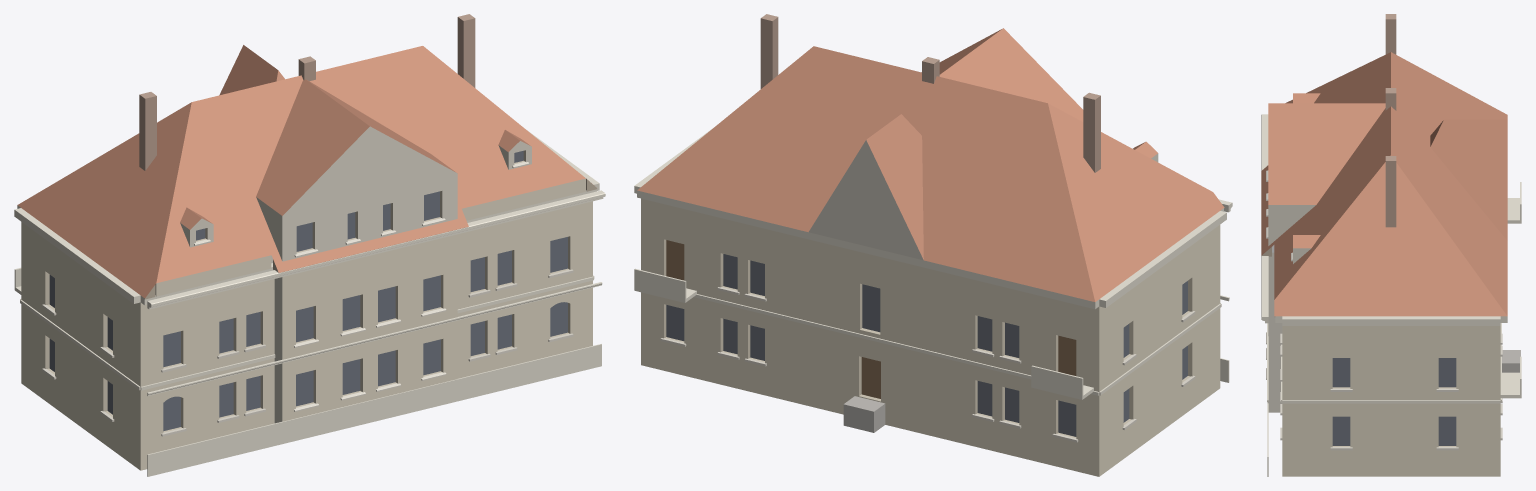
3 renders of one model, left to right at view 1: azimuth 30°, elevation 25°; view 2: azimuth 150°, elevation 25°; view 3: azimuth 270°, elevation 25°, orthographic. The views are drawn at different scales.
Visible parts, largest first — view 1: CP_426_Masonry, CP_426_Roof, CP_426_Dormer_P, CP_426_Cornice_plinth_0, CP_426_Cornice_main_0, CP_426_Cornice_string_0, CP_426_Cornice_side_NE_main, CP_426_Roof_EaveClosure_0, CP_426_Roof_EaveClosure_2, CP_426_WingRoof_RearGable, CP_426_Chimney_0, CP_426_Chimney_2 (+5 smaller); view 2: CP_426_Masonry, CP_426_Roof, CP_426_WingRoof_RearGable, CP_426_Dormer_P, CP_426_Cornice_rear_main, CP_426_Cornice_side_NE_main, CP_426_Cornice_rear_string, CP_426_Chimney_0, CP_426_Rear_Steps, CP_426_Chimney_2, CP_426_Balcony_L_Rail, CP_426_Balcony_R_Rail (+1 smaller); view 3: CP_426_Roof, CP_426_Masonry, CP_426_Dormer_P, CP_426_WingRoof_RearGable, CP_426_Cornice_side_SW_main, CP_426_Cornice_main_0, CP_426_Cornice_side_SW_string, CP_426_Chimney_2, CP_426_Balcony_R_Slab, CP_426_Chimney_0, CP_426_Dormer_DR, CP_426_Rear_Steps (+1 smaller).
Boxes of the visible parts, x1,y1,x2,y2 form: CP_426_Masonry: (21, 201, 592, 470); CP_426_Roof: (17, 46, 596, 298); CP_426_Dormer_P: (256, 79, 457, 261); CP_426_Cornice_plinth_0: (147, 344, 601, 476); CP_426_Cornice_main_0: (147, 190, 605, 309); CP_426_Cornice_string_0: (147, 282, 602, 395); CP_426_Cornice_side_NE_main: (14, 208, 140, 303); CP_426_Roof_EaveClosure_0: (462, 178, 585, 220); CP_426_Roof_EaveClosure_2: (155, 255, 271, 296); CP_426_WingRoof_RearGable: (219, 45, 284, 95); CP_426_Chimney_0: (139, 92, 156, 170); CP_426_Chimney_2: (457, 14, 475, 87); CP_426_Masonry: (641, 198, 1220, 476); CP_426_Roof: (637, 46, 1224, 301); CP_426_WingRoof_RearGable: (809, 114, 923, 260); CP_426_Dormer_P: (921, 28, 1083, 121); CP_426_Cornice_rear_main: (637, 190, 1099, 309); CP_426_Cornice_side_NE_main: (1099, 211, 1226, 307); CP_426_Cornice_rear_string: (694, 294, 1099, 395); CP_426_Chimney_0: (1083, 92, 1100, 172); CP_426_Rear_Steps: (843, 396, 885, 432); CP_426_Chimney_2: (760, 14, 778, 88); CP_426_Balcony_L_Rail: (1031, 365, 1083, 396); CP_426_Balcony_R_Rail: (634, 268, 686, 299); CP_426_Roof: (1261, 52, 1507, 316); CP_426_Masonry: (1268, 245, 1500, 476); CP_426_Dormer_P: (1268, 103, 1385, 245); CP_426_WingRoof_RearGable: (1430, 119, 1507, 240); CP_426_Cornice_side_SW_main: (1282, 316, 1500, 325); CP_426_Cornice_main_0: (1261, 114, 1268, 323); CP_426_Cornice_side_SW_string: (1282, 400, 1500, 403); CP_426_Chimney_2: (1385, 156, 1396, 227); CP_426_Balcony_R_Slab: (1500, 372, 1521, 398); CP_426_Chimney_0: (1385, 14, 1396, 54); CP_426_Dormer_DR: (1293, 235, 1320, 263); CP_426_Rear_Steps: (1502, 350, 1520, 372).
Size of the model in its own units: 27.8 by 18 by 14.75.
